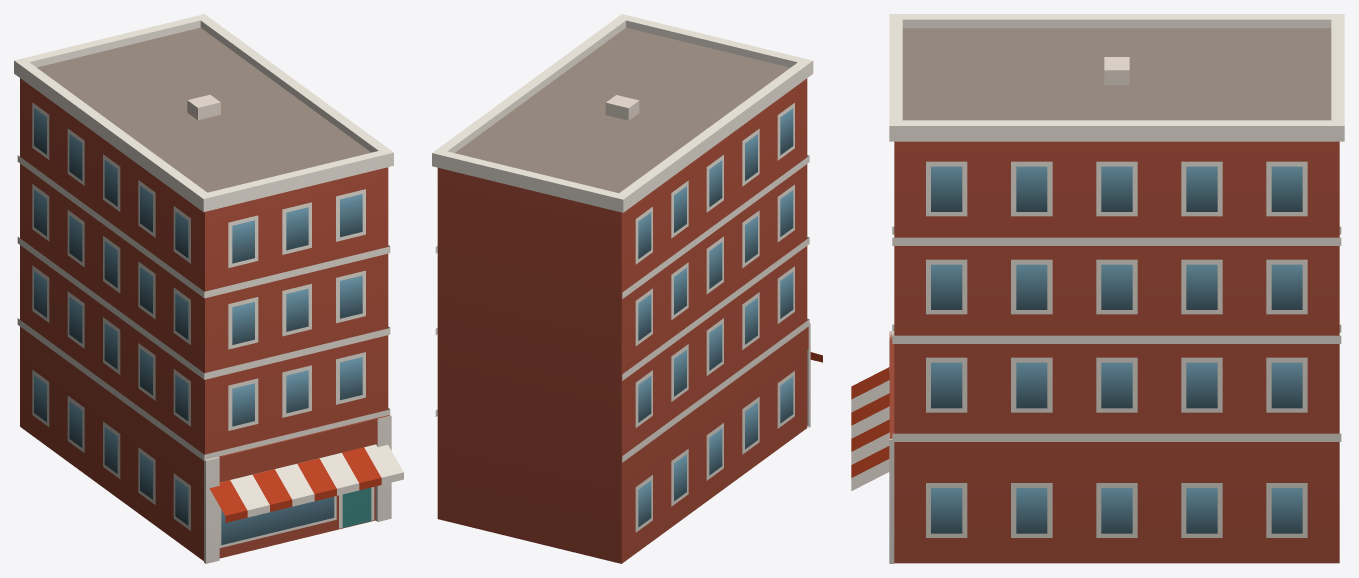
The model's file is boylston_s16_far.glb.
3 views of the same model, side by side, from view 1: azimuth 30°, elevation 25°; view 2: azimuth 150°, elevation 25°; view 3: azimuth 270°, elevation 25° (orthographic). The views are drawn at different scales.
Visible parts, largest first — view 1: boylston_s16_far; view 2: boylston_s16_far; view 3: boylston_s16_far.
Boxes of the visible parts, bbox=[...] form: boylston_s16_far: bbox=[14, 14, 403, 563]; boylston_s16_far: bbox=[432, 14, 822, 563]; boylston_s16_far: bbox=[851, 14, 1344, 563].
Bounding box in the file's own units: 8.32 × 15.47 × 15.51.
1 material, 1 textured.
